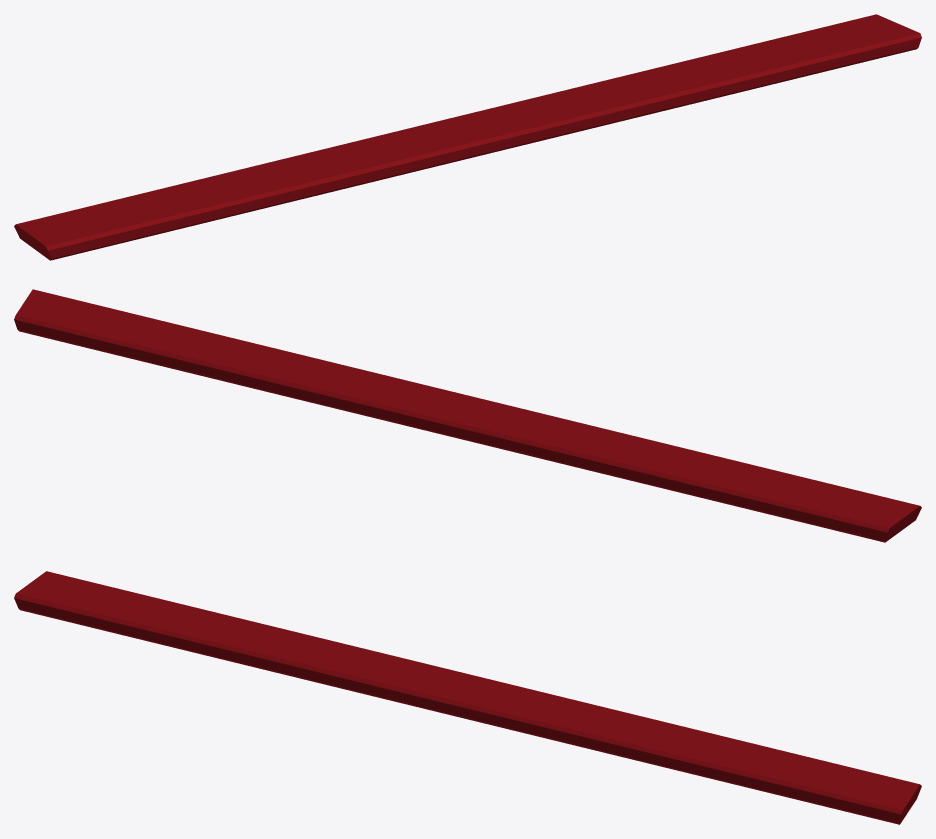
The model's file is SM_MH_01_Wood_Plank_03.fbx.
3 renders of one model, top to bottom at view 1: azimuth 30°, elevation 25°; view 2: azimuth 150°, elevation 25°; view 3: azimuth 330°, elevation 25°, orthographic.
Parts seen in each view (by area): view 1: SM_MH_01_Wood_Plank_03_LOD0; view 2: SM_MH_01_Wood_Plank_03_LOD0; view 3: SM_MH_01_Wood_Plank_03_LOD0.
Boxes of the visible parts, x1=… form: SM_MH_01_Wood_Plank_03_LOD0: x1=14, y1=14, x2=921, y2=260; SM_MH_01_Wood_Plank_03_LOD0: x1=14, y1=289, x2=921, y2=542; SM_MH_01_Wood_Plank_03_LOD0: x1=14, y1=571, x2=921, y2=824.
Size of what is drawn, in the model's own units: 300 by 5 by 20.
